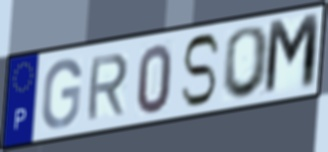0: (133, 39, 175, 117)
G: (39, 56, 84, 131)
M: (262, 10, 323, 100)
O: (220, 23, 273, 102)
R: (84, 51, 131, 123)
S: (178, 31, 223, 109)
